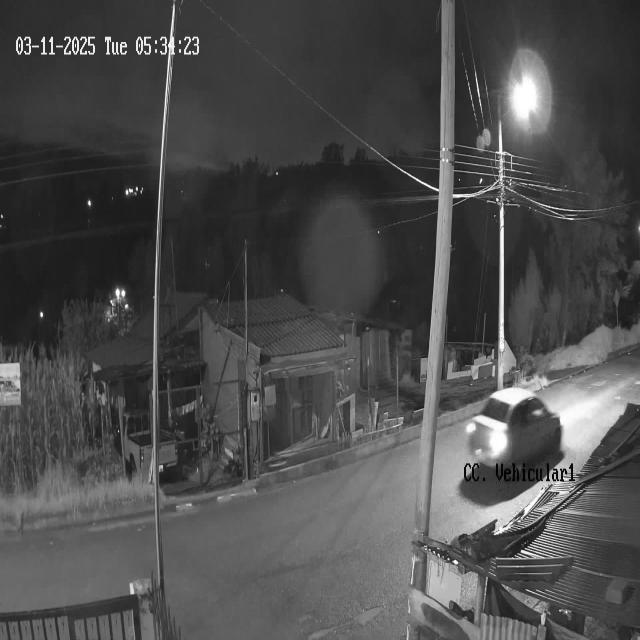SED: (464, 386, 563, 471)
